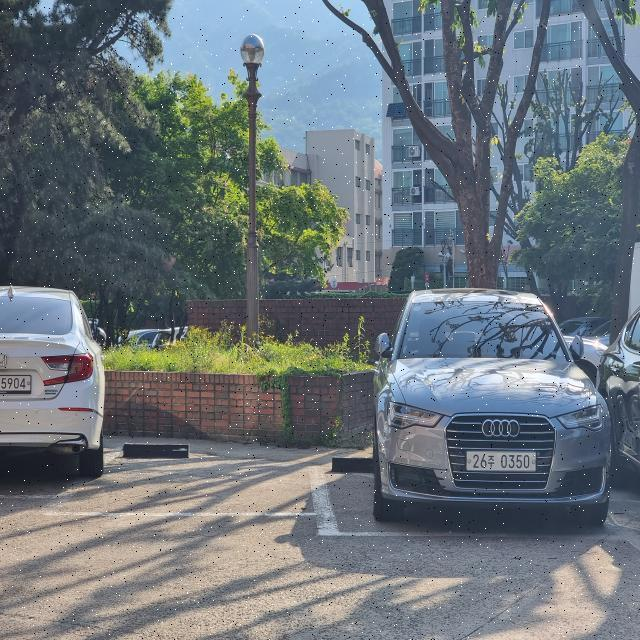Car: (382, 291, 616, 533), (0, 280, 113, 480)
Vacant: (86, 452, 332, 514)
